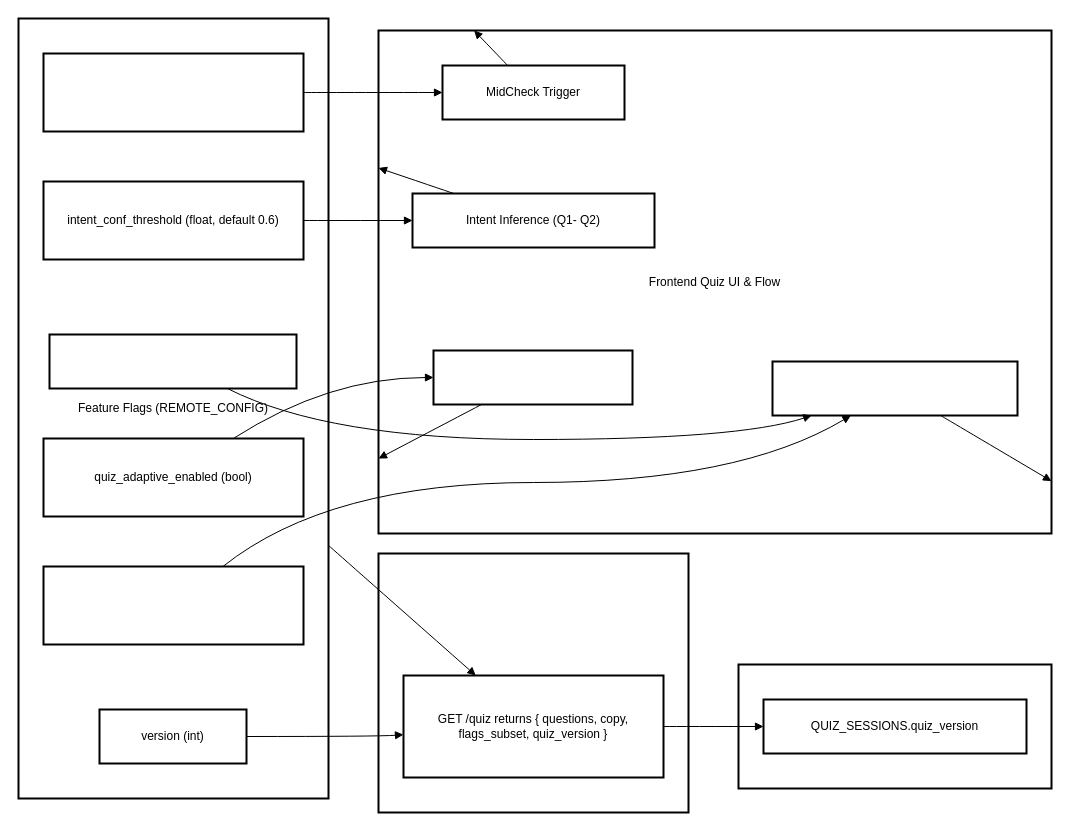
Image size: 1069x830. Some labels were removed from this diagram. Here are the shapes that lost their labels. From the top down, the centre of each, then its label:
At point (173, 92): "midcheck_sample_rate (float 0-1)".
At point (172, 361): "quiz_copy_variant (string)".
At point (532, 377): "State Machine Flow".
At point (894, 388): "Outro Copy (CTA wording)".
At point (173, 605): "baby_wording_enabled (bool)".
